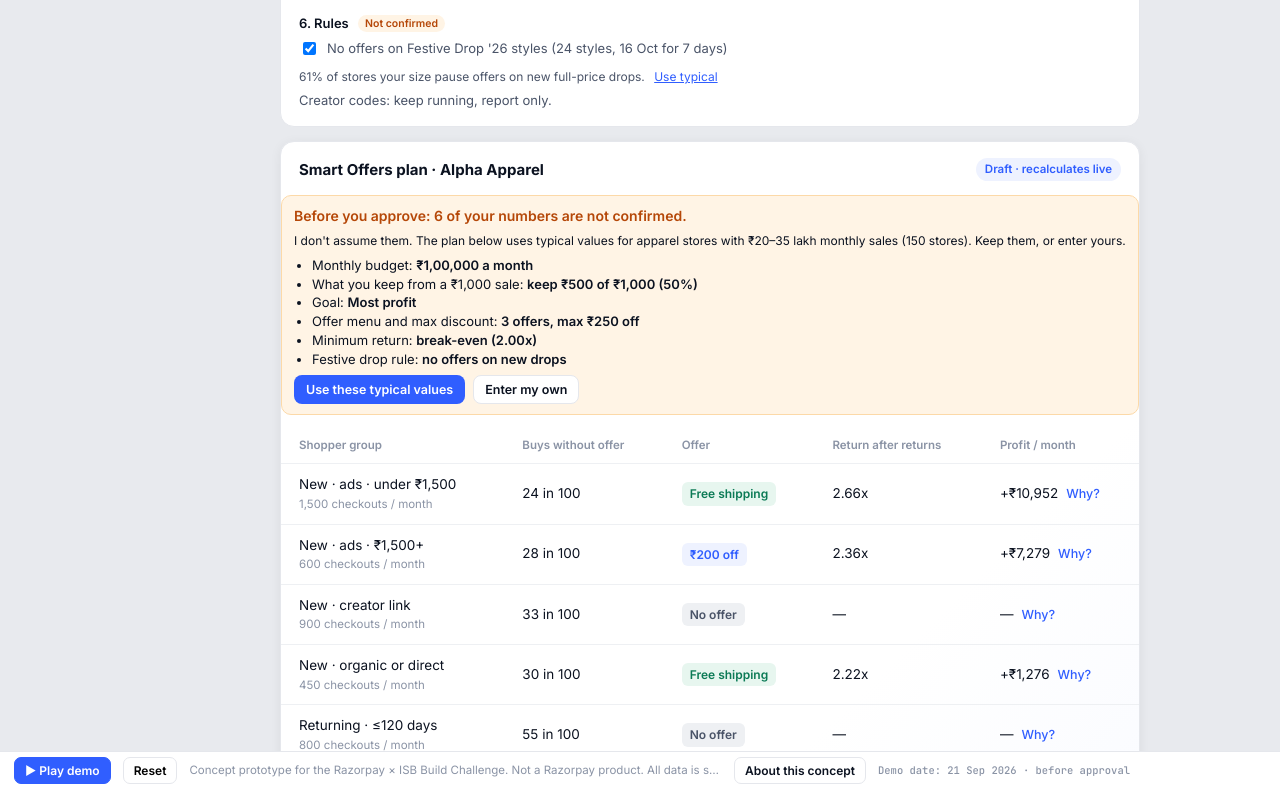
Test case: ask, don't assume › Approve stays disabled until every input is confirmed; "Use these typical values" confirms them
The image size is (1280, 789).
(page scrolled)
Click the button "Use these typical values" at (380, 389), box [294,375,465,404]
(page scrolled)
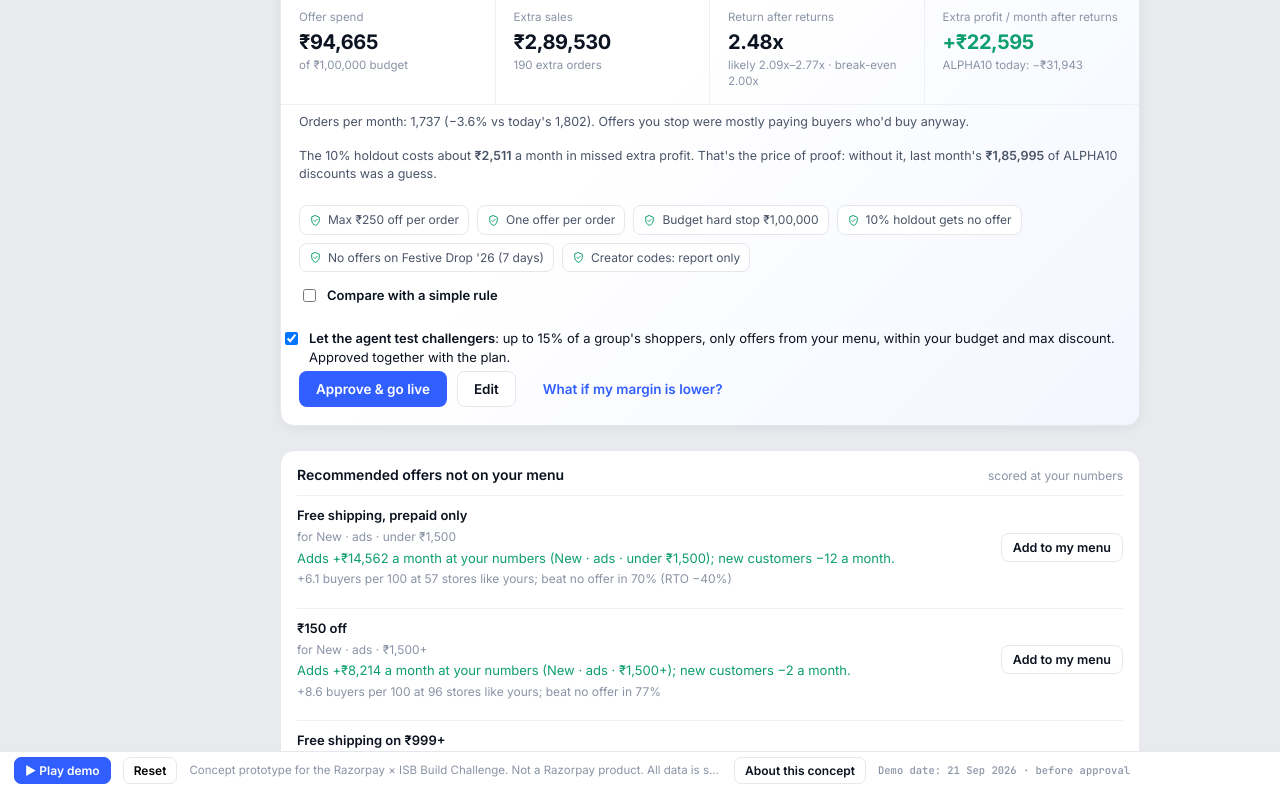
Check: the button "Approve & go live" is enabled, box [299,371,447,407]
